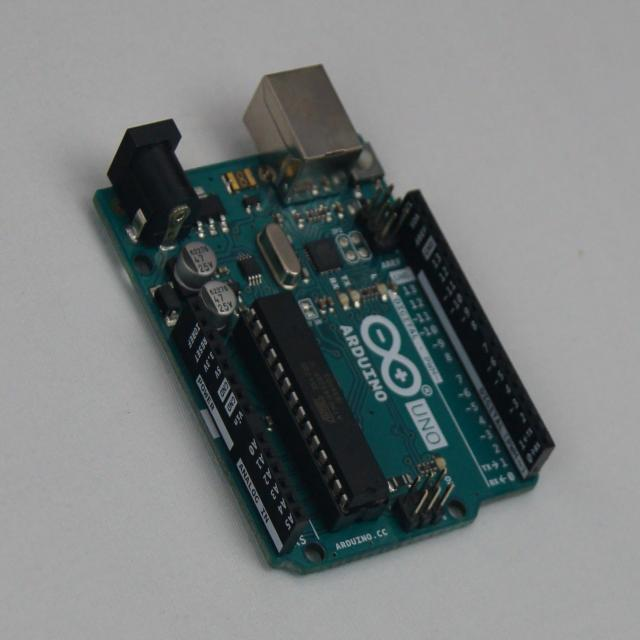Arduino Uno -Green-: (96, 66, 554, 572)
